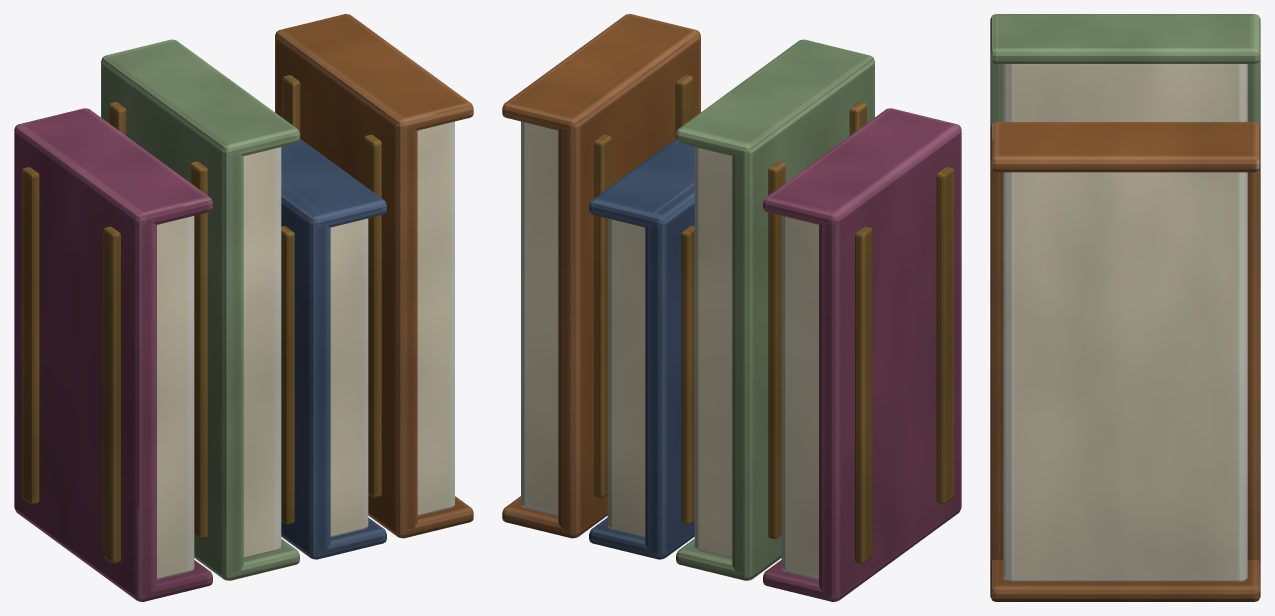
File: 21_Book_Group_2.fbx
3 renders of one model, left to right at view 1: azimuth 30°, elevation 25°; view 2: azimuth 150°, elevation 25°; view 3: azimuth 270°, elevation 25°, orthographic. The views are drawn at different scales.
Parts seen in each view (by area): view 1: 21_Book_Group_2; view 2: 21_Book_Group_2; view 3: 21_Book_Group_2.
Boxes of the visible parts, x1,y1,x2,y2 form: 21_Book_Group_2: (14, 14, 473, 601); 21_Book_Group_2: (502, 14, 961, 601); 21_Book_Group_2: (990, 14, 1260, 601).
Bounding box in the file's own units: 29.8 × 35.94 × 19.
1 material, 1 textured.
